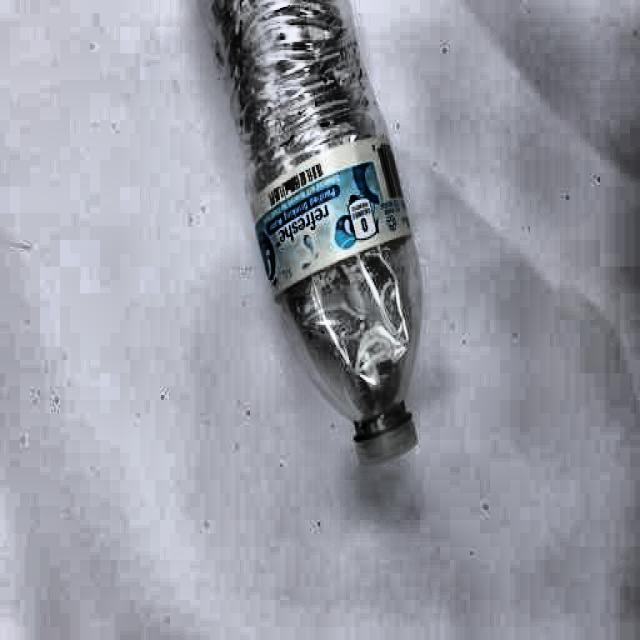plastic: (198, 1, 420, 468)
